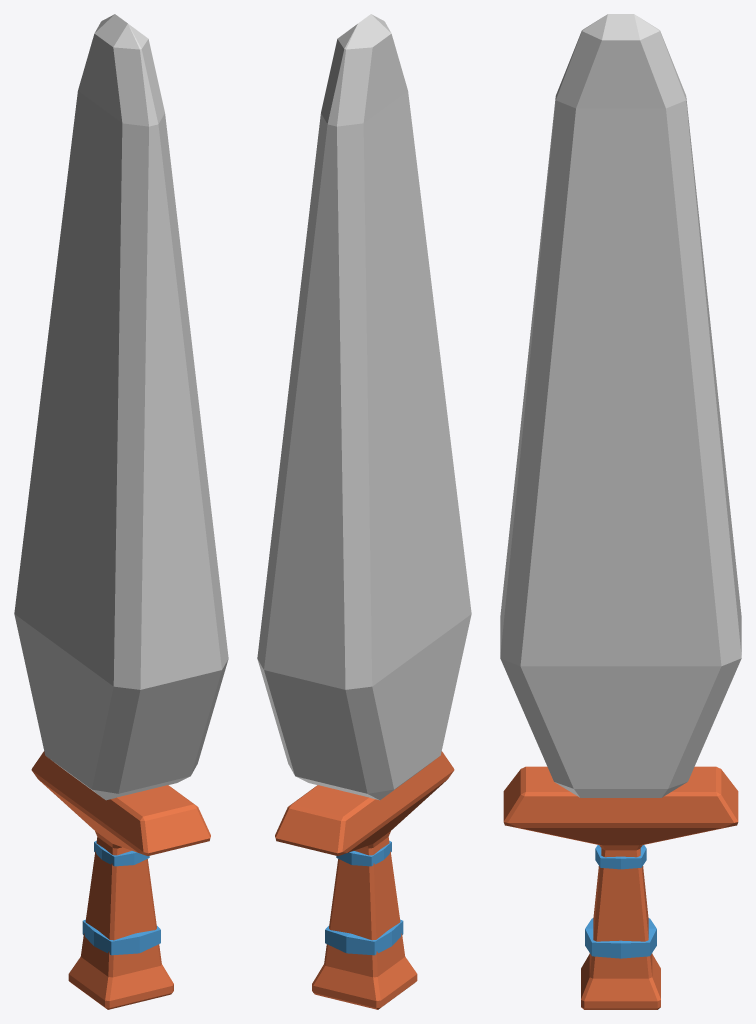
File: Sword.glb
The picture shows the model from 3 angles, left to right: view 1: azimuth 30°, elevation 25°; view 2: azimuth 150°, elevation 25°; view 3: azimuth 270°, elevation 25°; orthographic projection.
Visible parts, largest first — view 1: Cube, Cube.001, Cube.003, Cube.002; view 2: Cube, Cube.001, Cube.003, Cube.002; view 3: Cube, Cube.001, Cube.003, Cube.002.
Boxes of the visible parts, left/top/right/bottom form: Cube: left=14, top=14, right=228, bottom=800; Cube.001: left=31, top=751, right=210, bottom=1009; Cube.003: left=82, top=919, right=160, bottom=955; Cube.002: left=94, top=841, right=149, bottom=866; Cube: left=257, top=14, right=471, bottom=800; Cube.001: left=275, top=751, right=454, bottom=1009; Cube.003: left=325, top=919, right=403, bottom=955; Cube.002: left=336, top=841, right=391, bottom=866; Cube: left=500, top=14, right=741, bottom=797; Cube.001: left=503, top=766, right=738, bottom=1009; Cube.003: left=585, top=918, right=656, bottom=958; Cube.002: left=595, top=845, right=646, bottom=869.
Bounding box in the file's own units: 0.3663 × 2.95 × 0.6597.
